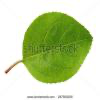Apple leaf: (21, 11, 96, 87)
